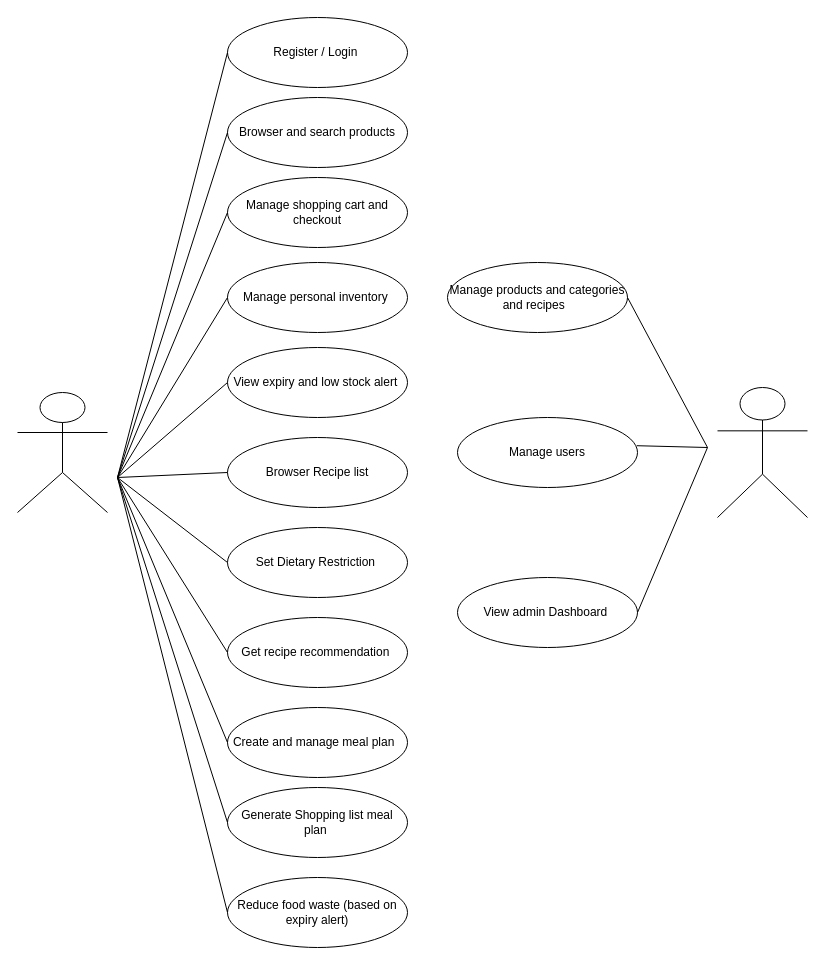
Some shapes in this 825 by 965 pixel diagram are drawn without their labels. The centre of each missing label's shape, as x and y in pixels:
Admin: the point at 762,452
User: the point at 62,452
